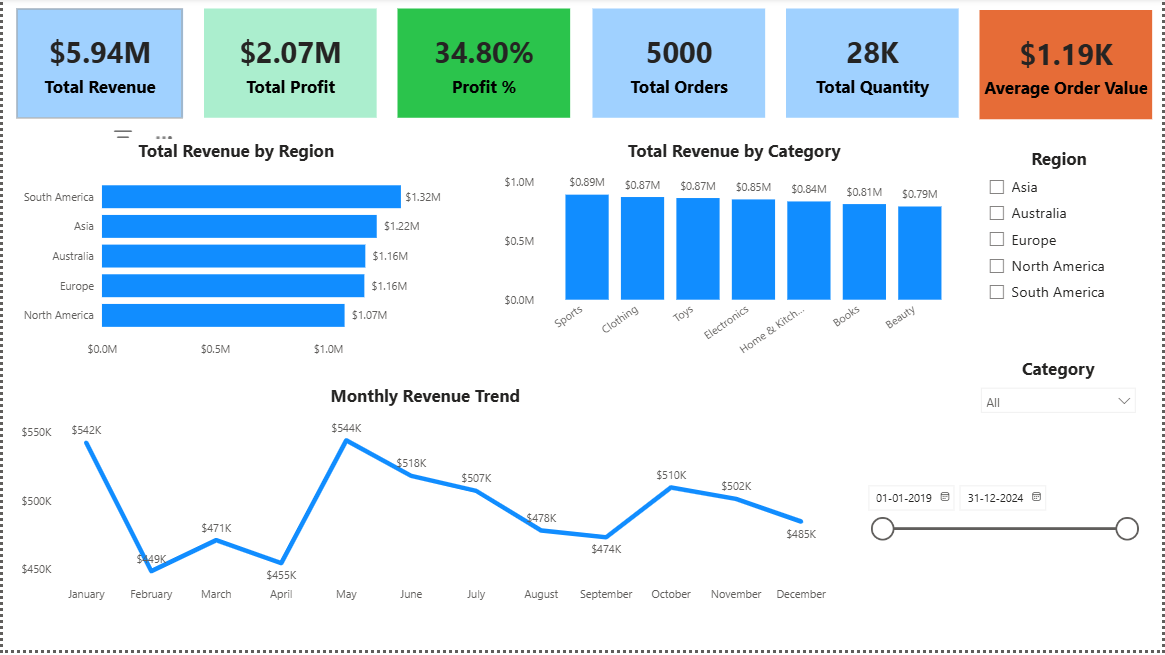

This screenshot's page, from the dashboard's own definition file:
{"tool":"powerbi","page":{"name":"Sales Overview","canvas":[1280,720],"ordinal":0},"visuals":[{"type":"card","fields":{"Values":["Measure.Total Revenue"]},"box":[14.9,11.6,183.9,120.9],"z":0},{"type":"card","fields":{"Values":["Measure.Total Profit"]},"box":[222.3,11.6,190.5,120.9],"z":1000},{"type":"card","fields":{"Values":["Measure.Profit %"]},"box":[436.3,11.6,190.5,120.9],"z":2000},{"type":"card","fields":{"Values":["Measure.Total Orders"]},"box":[650.3,11.6,190.5,120.9],"z":3000},{"type":"card","fields":{"Values":["Measure.Total Quantity"]},"box":[864.4,11.6,190.5,120.9],"z":4000},{"type":"card","fields":{"Values":["Measure.Avg Order Value"]},"box":[1078.4,13.3,190.5,120.9],"z":5000},{"type":"clusteredBarChart","title":"Total Revenue by Region","fields":{"Category":["sales_dataset_2019_2024_.region"],"Y":["Measure.Total Revenue"]},"box":[9.9,155.7,495.3,250.1],"z":6000},{"type":"clusteredColumnChart","title":"Total Revenue by Category","fields":{"Category":["sales_dataset_2019_2024_.product_category"],"Y":["Measure.Total Revenue"]},"box":[548.3,155.7,518.5,250.1],"z":7000},{"type":"lineChart","title":"Monthly Revenue Trend","fields":{"Category":["sales_dataset_2019_2024_.month_name"],"Y":["Measure.Total Revenue"]},"box":[14.9,425.7,902.8,250.1],"z":8000},{"type":"slicer","title":"Region","fields":{"Values":["sales_dataset_2019_2024_.region"]},"box":[1077.4,163.4,178.9,203.7],"z":9000},{"type":"slicer","title":"Category","fields":{"Values":["sales_dataset_2019_2024_.product_category"]},"box":[1070.7,396.5,190.5,101],"z":10000},{"type":"slicer","title":"Category","fields":{"Values":["sales_dataset_2019_2024_.order_date"]},"box":[942,529,319.7,96.1],"z":11000}]}

Visuals, with their boxes in screenshot pixels (x1, y1, x2, y2), scaled from the page's 1280x720 canvas onto the 1165x655 screenshot:
card - Measure.Total Revenue: (x1=14, y1=11, x2=181, y2=121)
card - Measure.Total Profit: (x1=202, y1=11, x2=376, y2=121)
card - Measure.Profit %: (x1=397, y1=11, x2=570, y2=121)
card - Measure.Total Orders: (x1=592, y1=11, x2=765, y2=121)
card - Measure.Total Quantity: (x1=787, y1=11, x2=960, y2=121)
card - Measure.Avg Order Value: (x1=982, y1=12, x2=1155, y2=122)
"Total Revenue by Region" clusteredBarChart: (x1=9, y1=142, x2=460, y2=369)
"Total Revenue by Category" clusteredColumnChart: (x1=499, y1=142, x2=971, y2=369)
"Monthly Revenue Trend" lineChart: (x1=14, y1=387, x2=835, y2=615)
"Region" slicer: (x1=981, y1=149, x2=1143, y2=334)
"Category" slicer: (x1=975, y1=361, x2=1148, y2=453)
"Category" slicer: (x1=857, y1=481, x2=1148, y2=569)
